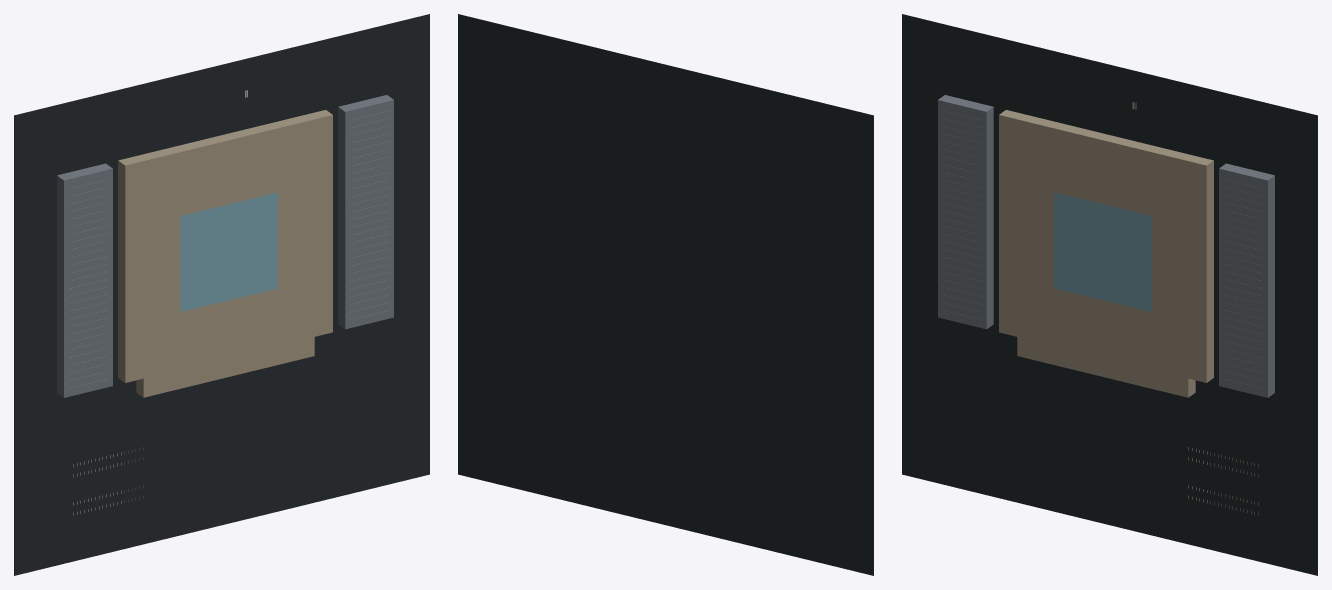
Rendered from mall_environment.obj.
3 views of the same model, side by side, from view 1: azimuth 30°, elevation 25°; view 2: azimuth 150°, elevation 25°; view 3: azimuth 330°, elevation 25° (orthographic).
Parts seen in each view (by area): view 1: MallEnvironment; view 2: MallEnvironment; view 3: MallEnvironment.
Boxes of the visible parts, x1,y1,x2,y2 form: MallEnvironment: [14, 14, 429, 575]; MallEnvironment: [458, 14, 873, 575]; MallEnvironment: [902, 14, 1317, 575].
Size of the model in its own units: 68000 by 72000 by 2027.
